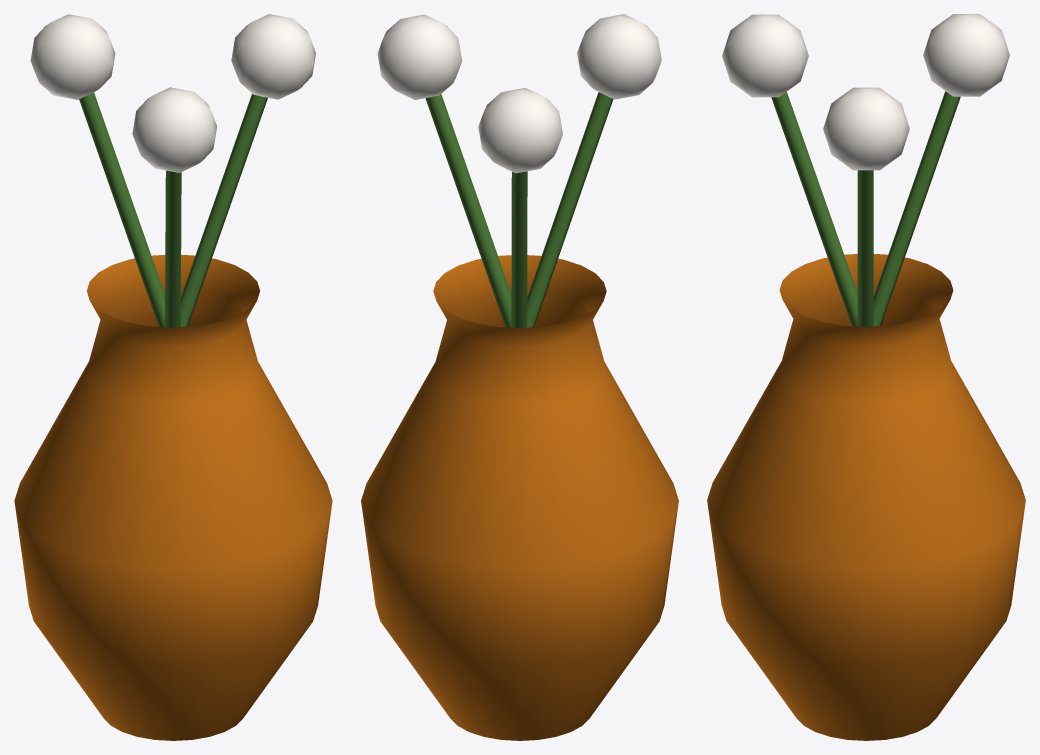
Rendered from furn_orange_vase.glb.
3 renders of one model, left to right at view 1: azimuth 30°, elevation 25°; view 2: azimuth 150°, elevation 25°; view 3: azimuth 270°, elevation 25°, orthographic.
Parts seen in each view (by area): view 1: furn_orange_vase_gloss, furn_orange_vase_main; view 2: furn_orange_vase_gloss, furn_orange_vase_main; view 3: furn_orange_vase_gloss, furn_orange_vase_main.
Part boxes in pixels (<box>): furn_orange_vase_gloss: <box>14,254,332,740</box>; furn_orange_vase_main: <box>30,14,315,327</box>; furn_orange_vase_gloss: <box>361,255,678,740</box>; furn_orange_vase_main: <box>377,14,661,327</box>; furn_orange_vase_gloss: <box>707,254,1025,740</box>; furn_orange_vase_main: <box>722,14,1009,326</box>.
Bounding box in the file's own units: 0.22 × 0.51 × 0.22.
